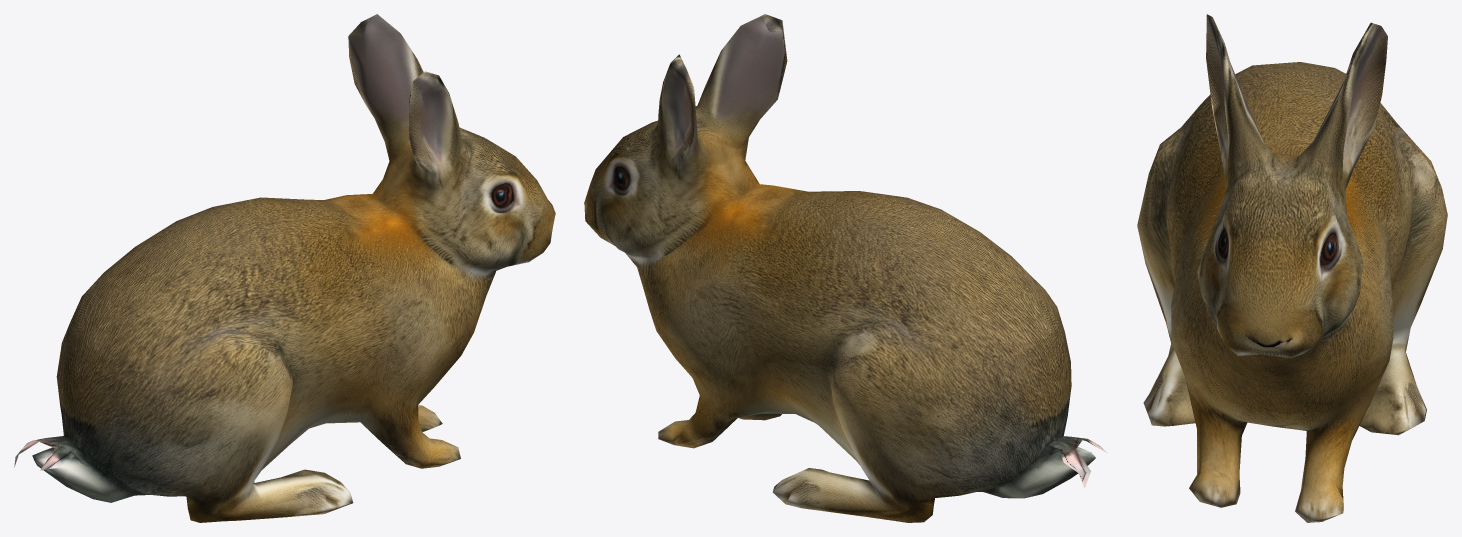
Rendered from rabbit_single_1500.glb.
3 views of the same model, side by side, from view 1: azimuth 30°, elevation 25°; view 2: azimuth 150°, elevation 25°; view 3: azimuth 270°, elevation 25° (orthographic). The views are drawn at different scales.
Size of the model in its own units: 0.8972 by 0.6675 by 0.3926.
Materials: 1 (1 with a texture image).
